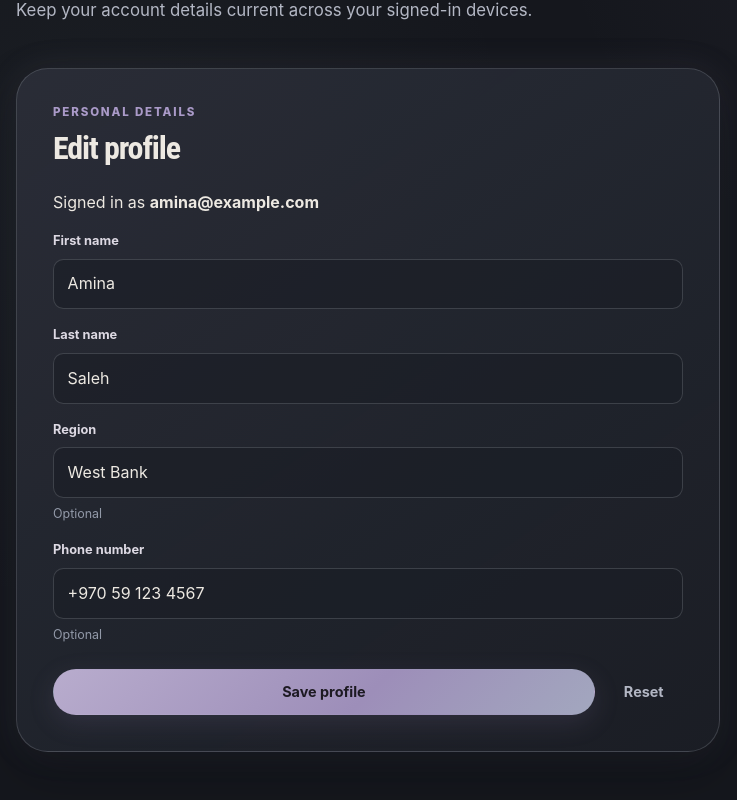
ProfilePage › focuses a useful error when saving fails
(page scrolled)
Click the button "Save profile". click: [324, 692]
box: [53, 669, 595, 715]
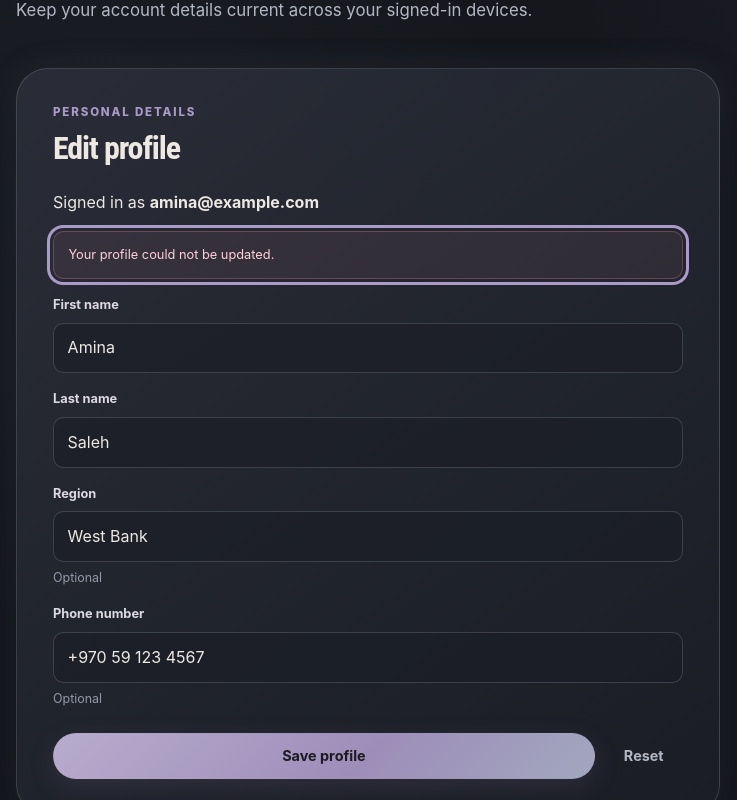
Result: the message reads "Your profile could not be updated." at [68, 247, 274, 262]
